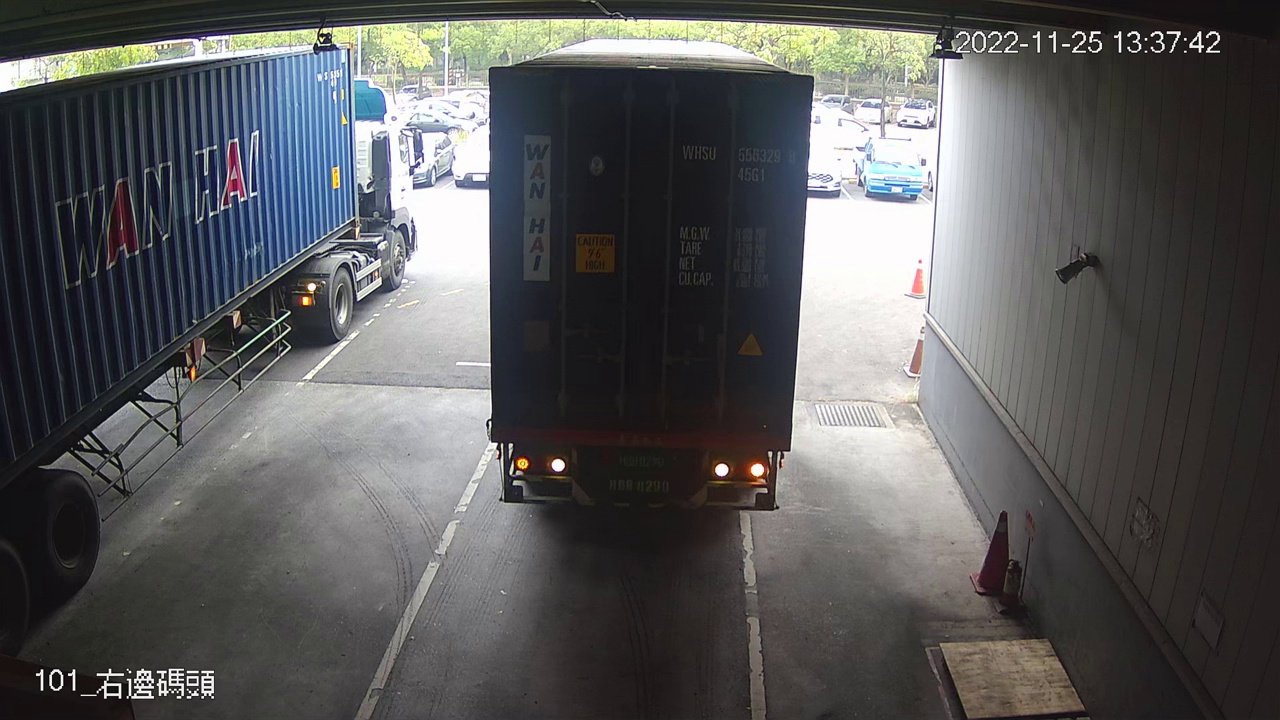container: (679, 137, 802, 189)
